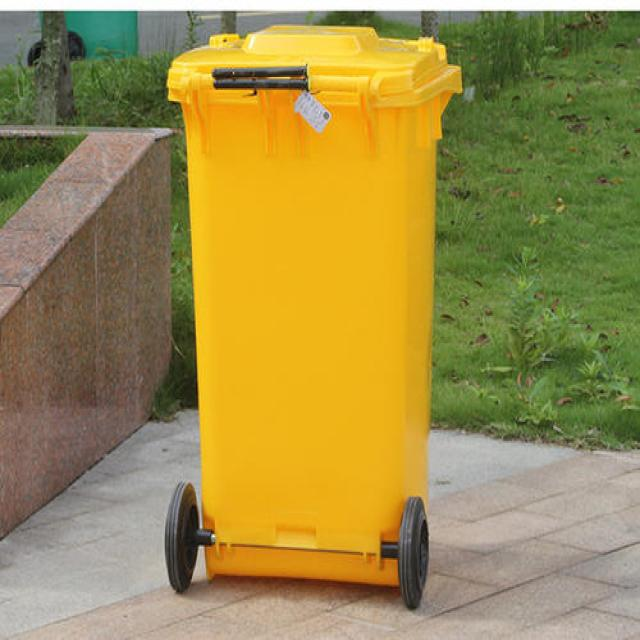garbage_bin: (165, 24, 462, 586)
